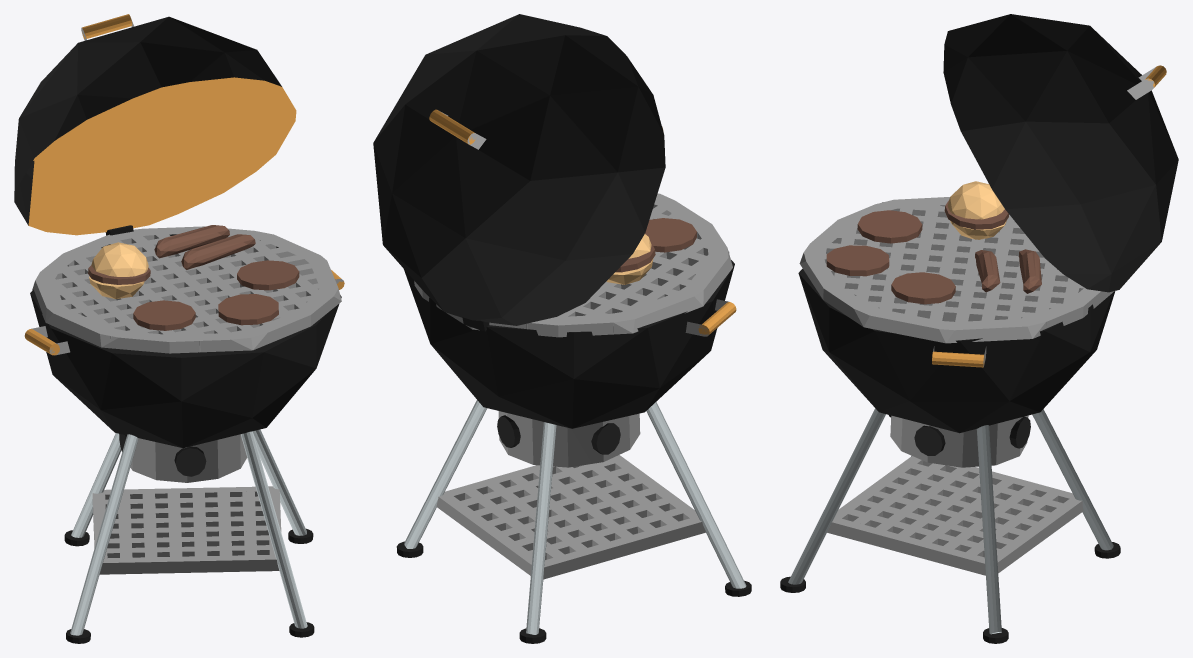
File: bbq.fbx
3 renders of one model, left to right at view 1: azimuth 30°, elevation 25°; view 2: azimuth 150°, elevation 25°; view 3: azimuth 270°, elevation 25°, orthographic. The views are drawn at different scales.
Visible parts, largest first — view 1: Node; view 2: Node; view 3: Node.
Part boxes in pixels (x1=…): Node: x1=14, y1=14, x2=344, y2=643; Node: x1=373, y1=14, x2=751, y2=643; Node: x1=780, y1=14, x2=1178, y2=643.
Size of the model in its own units: 54.87 by 94.29 by 61.78.
